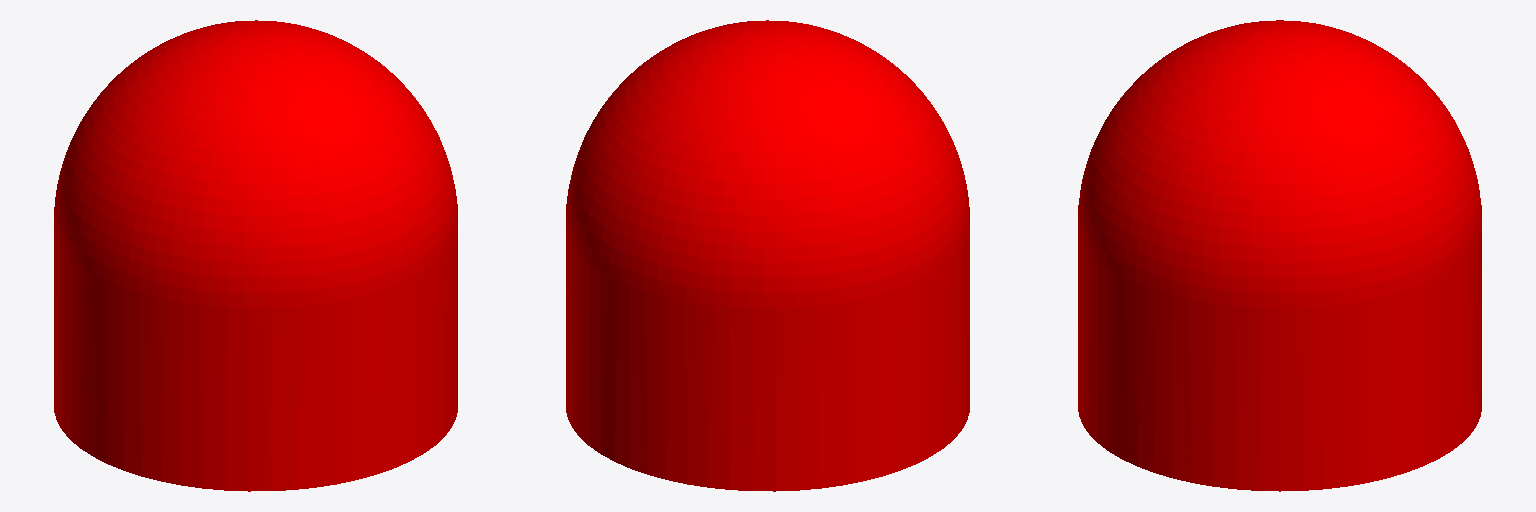
robot.urdf — bumps_40_red.urdf:
<?xml version="0.0" ?>
<robot name="bumps_40_red.urdf">
    <link name="baseLink">
        <contact>
            <lateral_friction value="0.2"/>
            <rolling_friction value="0.0001"/>
            <inertia_scaling value="3.0"/>
        </contact>
        <inertial>
            <origin rpy="0 0 0" xyz="0 0 0"/>
            <mass value="0.1"/>
            <inertia ixx="1" ixy="0" ixz="0" iyy="1" iyz="0" izz="1"/>
        </inertial>

        <visual>
            <origin rpy="0 0 0" xyz="0 0 0"/>
            <geometry>
                <mesh filename="bump_40.stl"/>
            </geometry>
            <material name="red">
                <color rgba="1 0 0 1"/>
            </material>
        </visual>
        <collision>
            <origin rpy="0 0 0" xyz="0 0 0"/>
            <geometry>
                <mesh filename="bump_40.stl"/>
            </geometry>
        </collision>
    </link>
</robot>

--- Facts derived from the render (not from the file) ---
Views: 3 orthographic renders of the robot side by side, from view 1: azimuth 30°, elevation 25°; view 2: azimuth 150°, elevation 25°; view 3: azimuth 270°, elevation 25°.
Robot: bumps_40_red.urdf — 1 links, 0 joints (none); root link baseLink; default pose: all joints at 0.
Links seen in each view (by area): view 1: baseLink; view 2: baseLink; view 3: baseLink.
Link boxes in pixels (<box>): baseLink: <box>54,20,457,491</box>; baseLink: <box>566,20,969,491</box>; baseLink: <box>1078,20,1481,491</box>.
Bounding box of the posed robot: 0.04 × 0.04 × 0.04 m (x, y, z).
Meshes: 1 distinct files referenced, 1 mesh visuals loaded (1 binary STL).